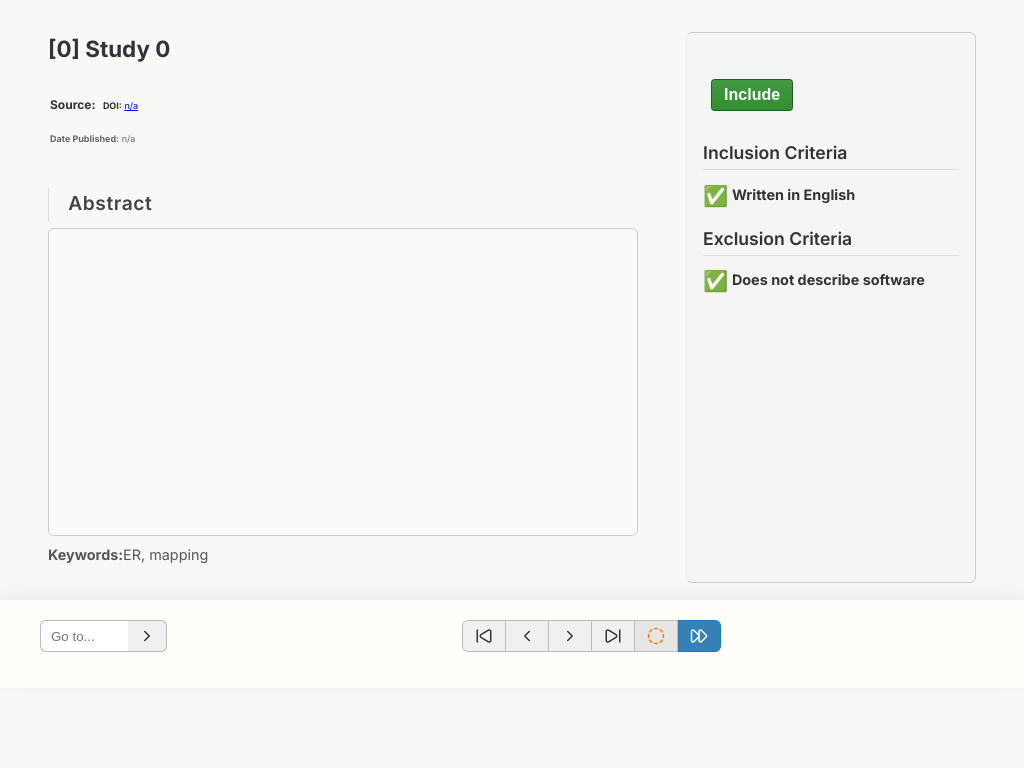
Test case: EvidenceEditor › jumps to a record by index using the goto input
The image size is (1024, 768).
Check: the heading "[0] Study 0" is shown, box [48, 35, 170, 62]
Type "2" into the number field with placeholder "Go to..." at (84, 636), box [40, 620, 128, 652]
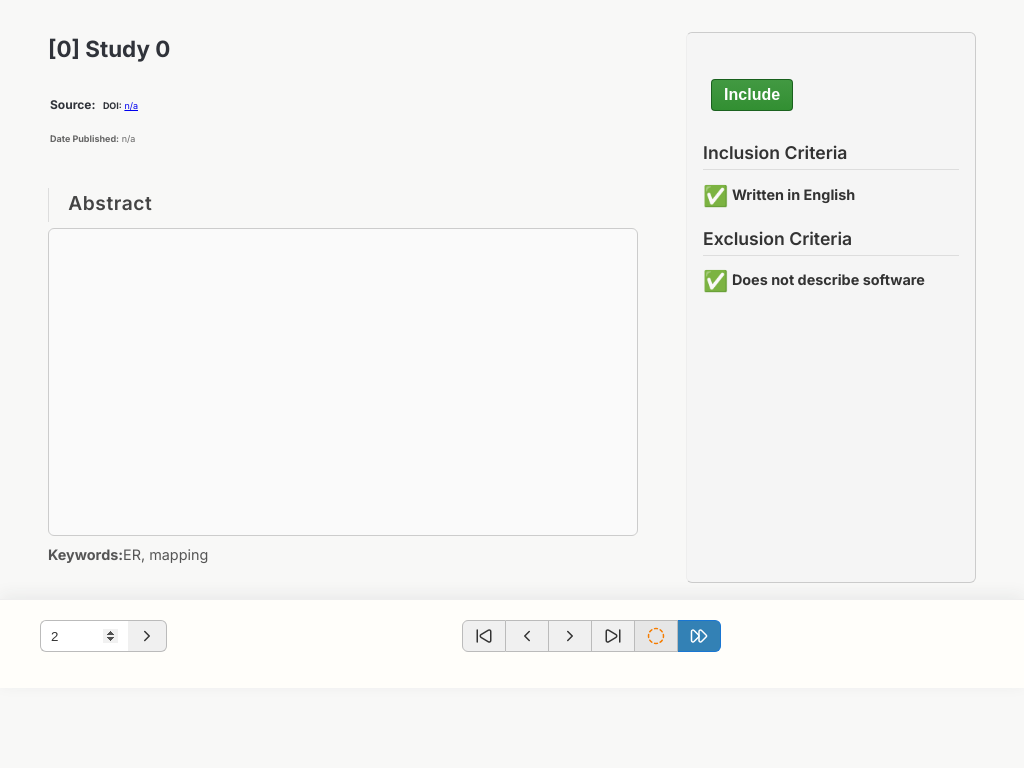
Click the button titled "Go to item" at (148, 636), box [128, 620, 167, 652]
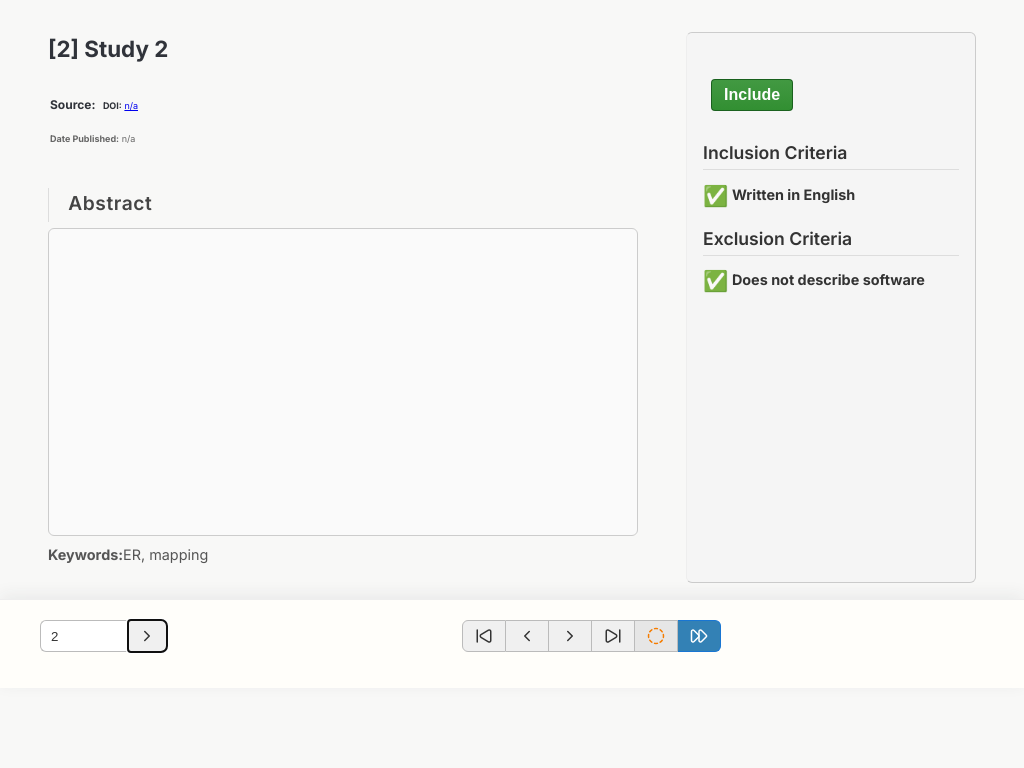
Check: the heading "[2] Study 2" is shown, box [48, 35, 168, 62]
